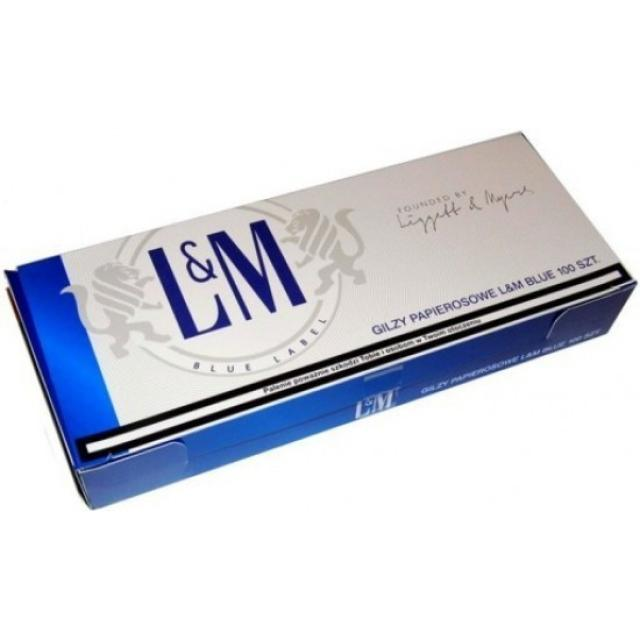lm: (28, 116, 640, 520)
